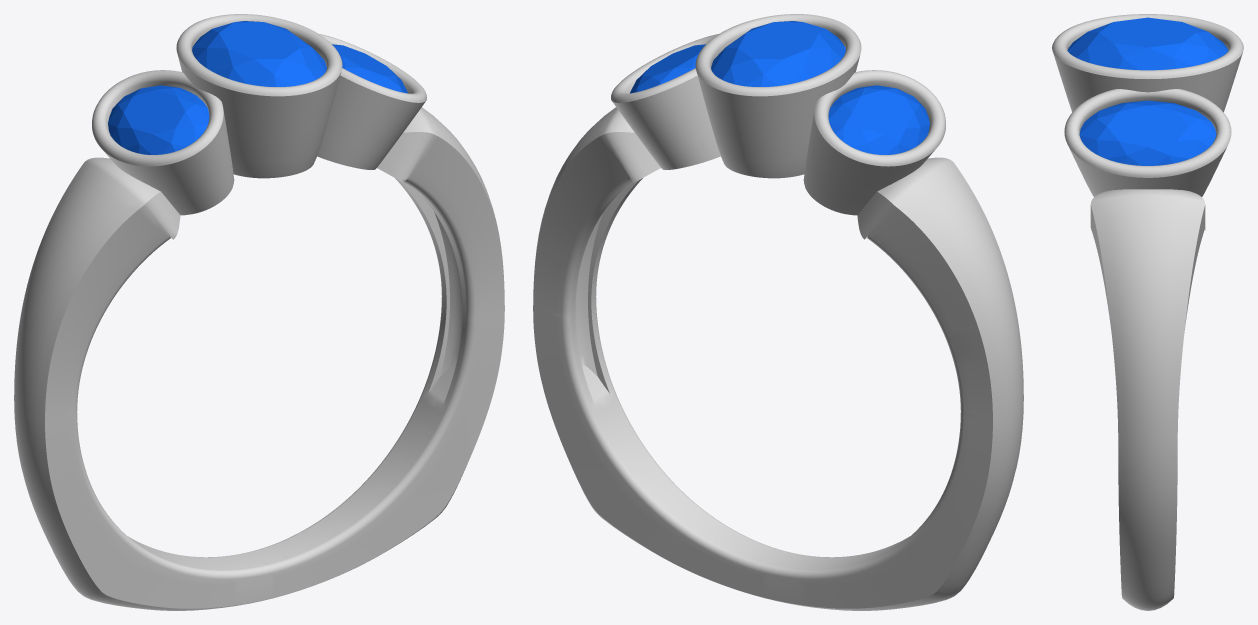
File: cyn_3_stone_blender.glb
3 renders of one model, left to right at view 1: azimuth 30°, elevation 25°; view 2: azimuth 150°, elevation 25°; view 3: azimuth 270°, elevation 25°, orthographic. The views are drawn at different scales.
Visible parts, largest first — view 1: 3 stone PT for 3d model, 3 stone dia for 3d model.002, 3 stone dia for 3d model.001, 3 stone dia for 3d model; view 2: 3 stone PT for 3d model, 3 stone dia for 3d model.002, 3 stone dia for 3d model.001, 3 stone dia for 3d model; view 3: 3 stone PT for 3d model, 3 stone dia for 3d model, 3 stone dia for 3d model.002.
Boxes of the visible parts, box(x1,y1,x2,y2) form: 3 stone PT for 3d model: box(14, 14, 504, 610); 3 stone dia for 3d model.002: box(192, 21, 326, 86); 3 stone dia for 3d model.001: box(108, 85, 209, 154); 3 stone dia for 3d model: box(332, 44, 407, 93); 3 stone PT for 3d model: box(533, 14, 1023, 610); 3 stone dia for 3d model.002: box(711, 21, 845, 86); 3 stone dia for 3d model.001: box(828, 85, 929, 154); 3 stone dia for 3d model: box(630, 44, 705, 93); 3 stone PT for 3d model: box(1052, 14, 1243, 610); 3 stone dia for 3d model: box(1079, 100, 1216, 165); 3 stone dia for 3d model.002: box(1067, 17, 1228, 70).
Bounding box in the file's own units: 23.18 × 25.87 × 8.38.
